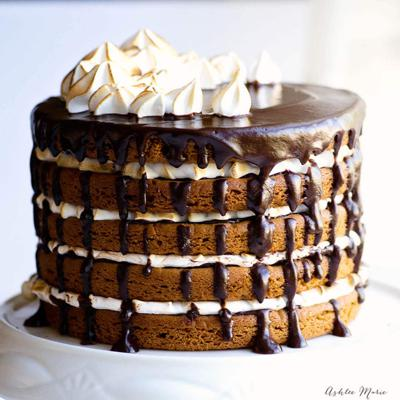cake: (29, 23, 367, 355)
